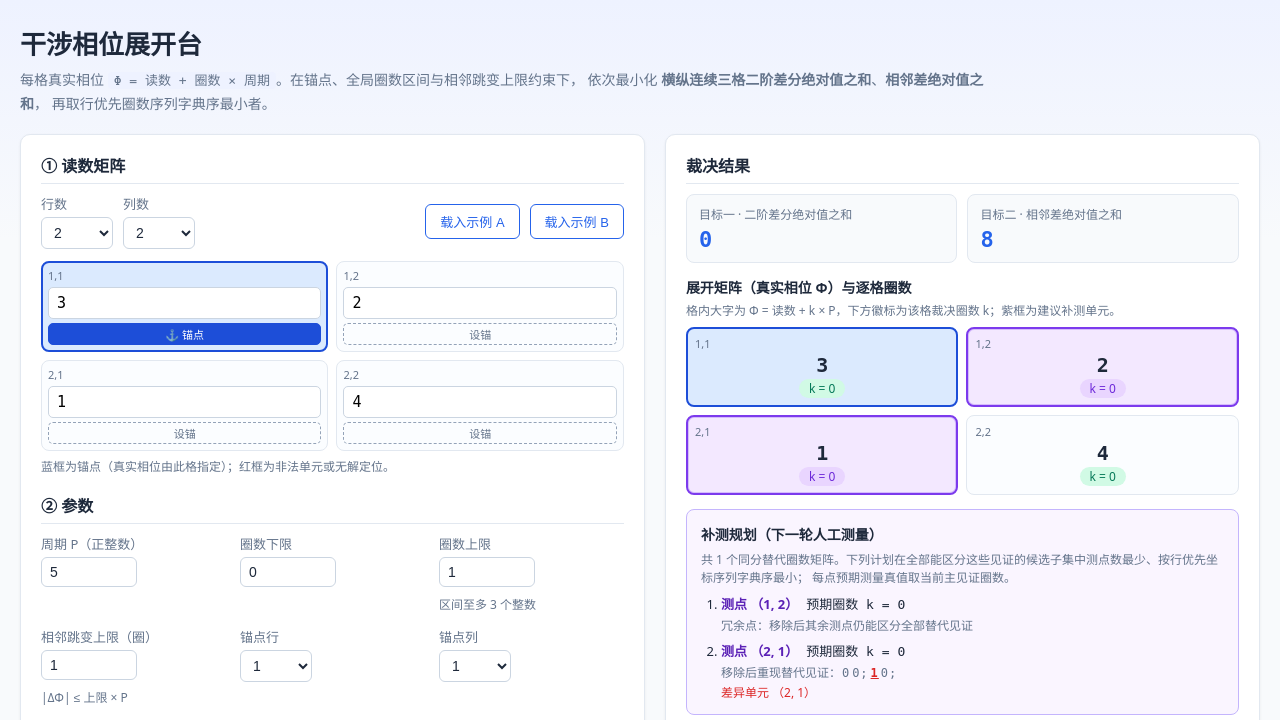
Scenario: App 主界面 › 输入变化立即撤下旧补测计划
expect the heading "补测规划（下一轮人工测量）" is shown: met, box [701, 525, 883, 544]
Clear the field named "第 1 行第 1 列读数": (185, 303) [48, 287, 321, 319]
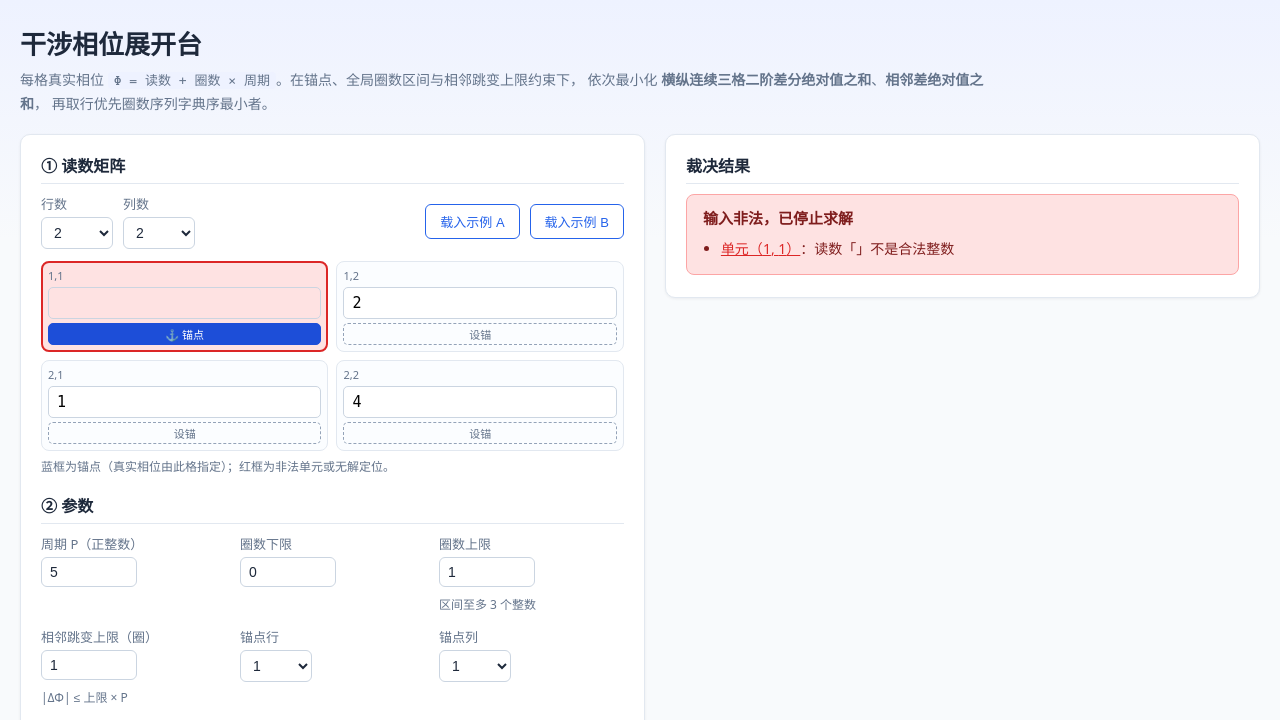
expect the heading "补测规划（下一轮人工测量）" is gone: met
expect the heading "补测规划" is gone: met
